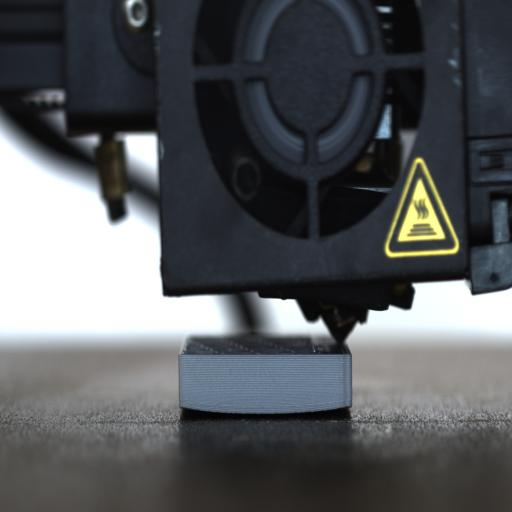warp: (318, 394, 360, 422), (175, 394, 214, 422)
